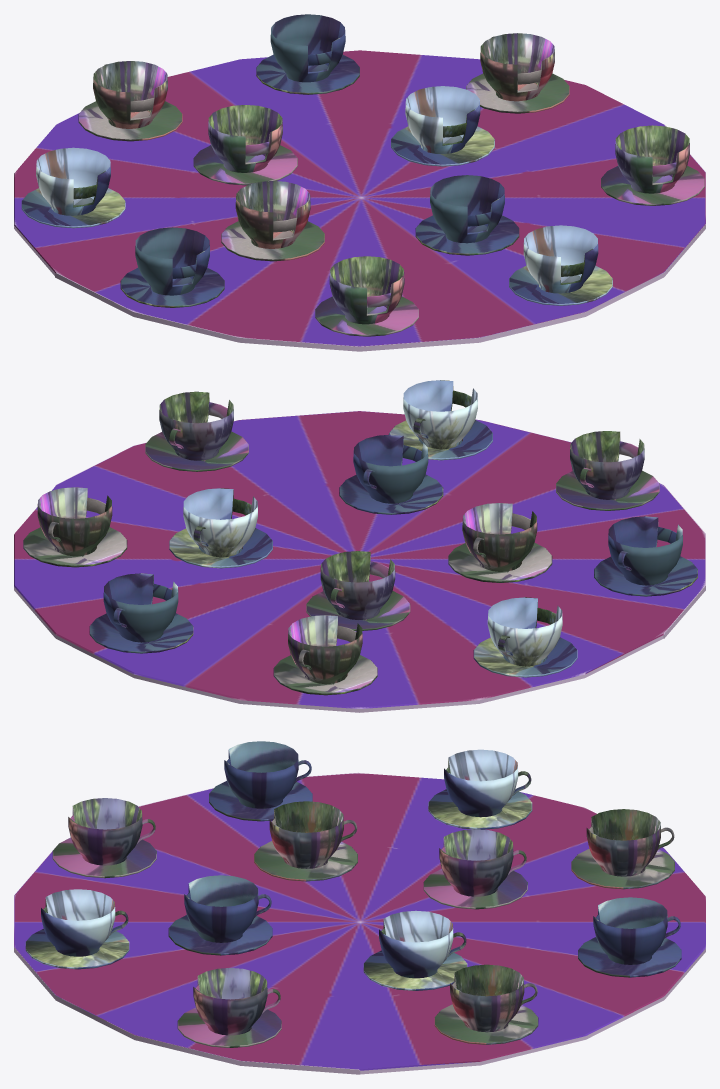
The model's file is TeacupAnim.FBX.
3 views of the same model, one above another, from view 1: azimuth 30°, elevation 25°; view 2: azimuth 150°, elevation 25°; view 3: azimuth 270°, elevation 25° (orthographic).
Parts seen in each view (by area): view 1: Object064; view 2: Object064; view 3: Object064.
Part boxes in pixels (left/top/right/bottom): Object064: left=14, top=14, right=705, bottom=351; Object064: left=14, top=380, right=705, bottom=712; Object064: left=14, top=741, right=705, bottom=1074.
Size of the model in its own units: 1168 by 98.48 by 1149.
